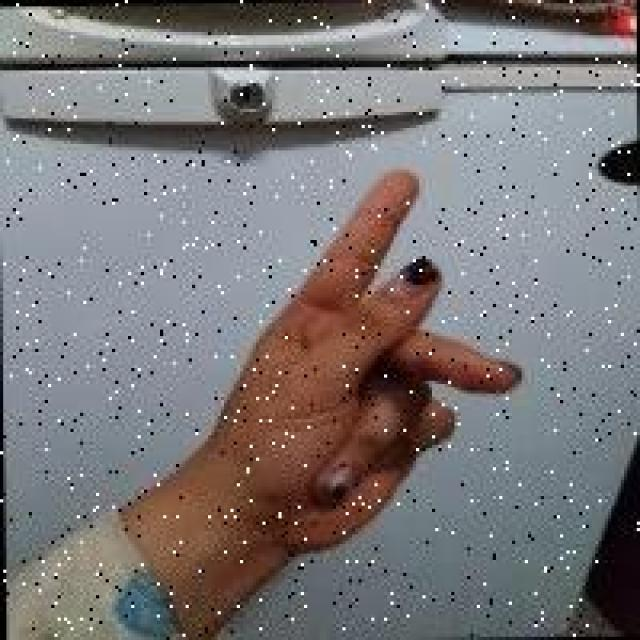K: (205, 157, 531, 566)
